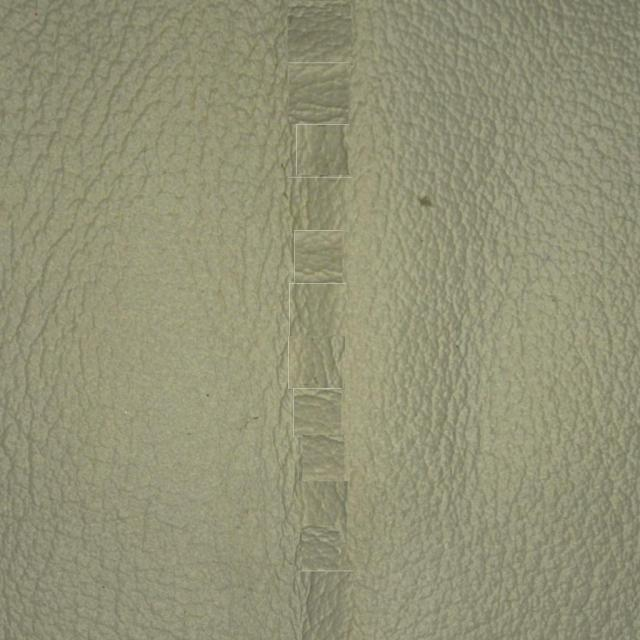Healed Injury: (288, 37, 362, 286), (279, 360, 371, 548)
